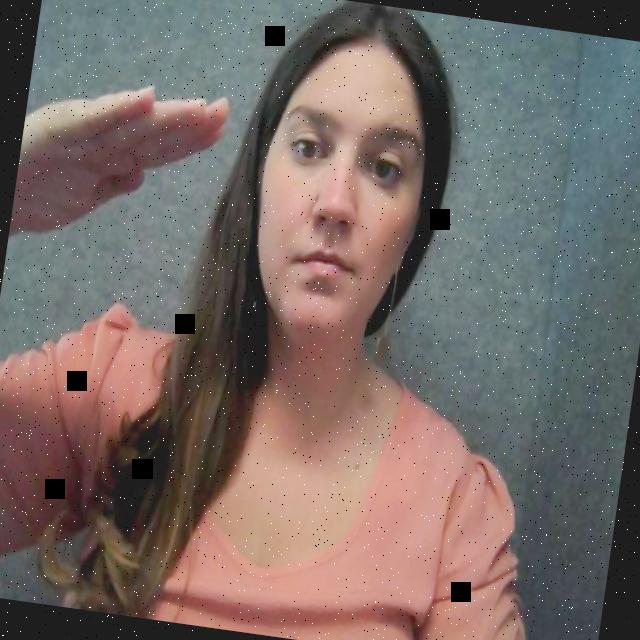Paper: (9, 40, 240, 259)
